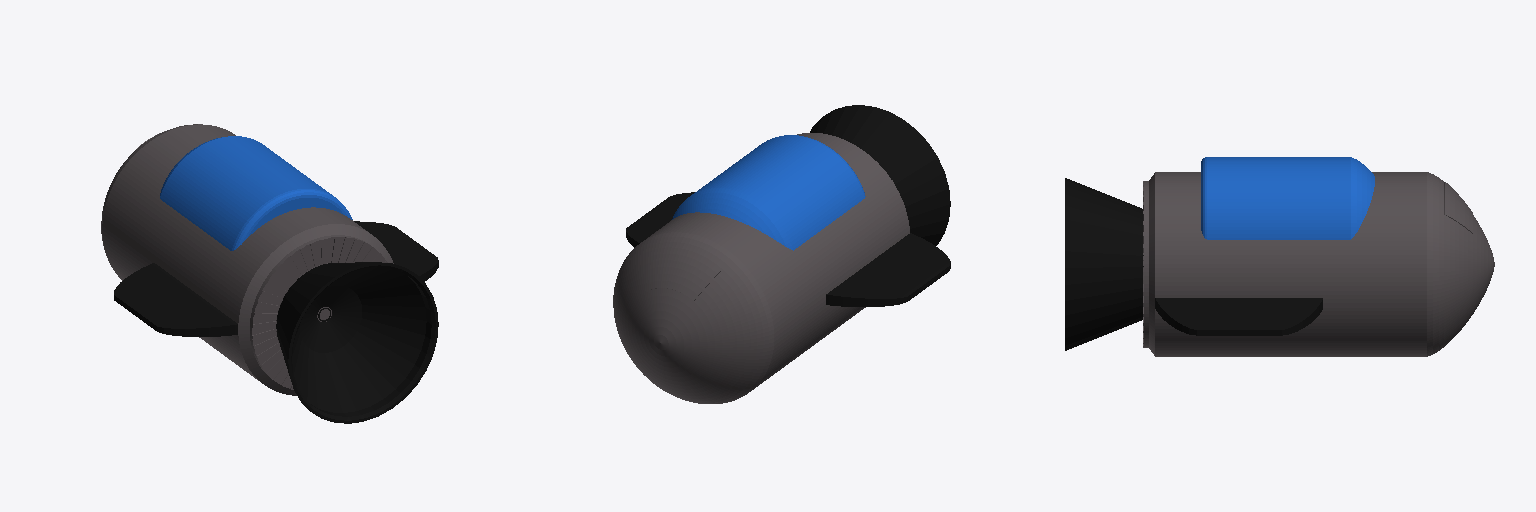
Rendered from spaceship.obj.
3 views of the same model, side by side, from view 1: azimuth 30°, elevation 25°; view 2: azimuth 150°, elevation 25°; view 3: azimuth 270°, elevation 25° (orthographic).
Parts seen in each view (by area): view 1: Cylindre, Cône, Cylindre.001, Cube; view 2: Cylindre, Cylindre.001, Cône, Cube; view 3: Cylindre, Cylindre.001, Cône, Cube.
Part boxes in pixels (left/top/right/bottom): Cylindre: left=101, top=124, right=393, bottom=395; Cône: left=276, top=262, right=438, bottom=423; Cylindre.001: left=160, top=136, right=352, bottom=250; Cube: left=114, top=221, right=438, bottom=336; Cylindre: left=613, top=133, right=909, bottom=403; Cylindre.001: left=672, top=135, right=865, bottom=250; Cône: left=810, top=105, right=950, bottom=245; Cube: left=626, top=192, right=950, bottom=306; Cylindre: left=1143, top=172, right=1494, bottom=356; Cylindre.001: left=1201, top=157, right=1374, bottom=239; Cône: left=1065, top=178, right=1143, bottom=350; Cube: left=1155, top=298, right=1322, bottom=335.
Bounding box in the file's own units: 3.51 × 2.2 × 4.65.